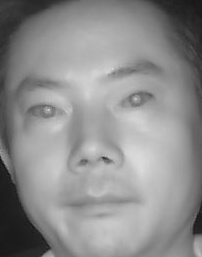eye: (25, 98, 69, 127), (118, 90, 159, 116)
mouth: (63, 182, 141, 222)
